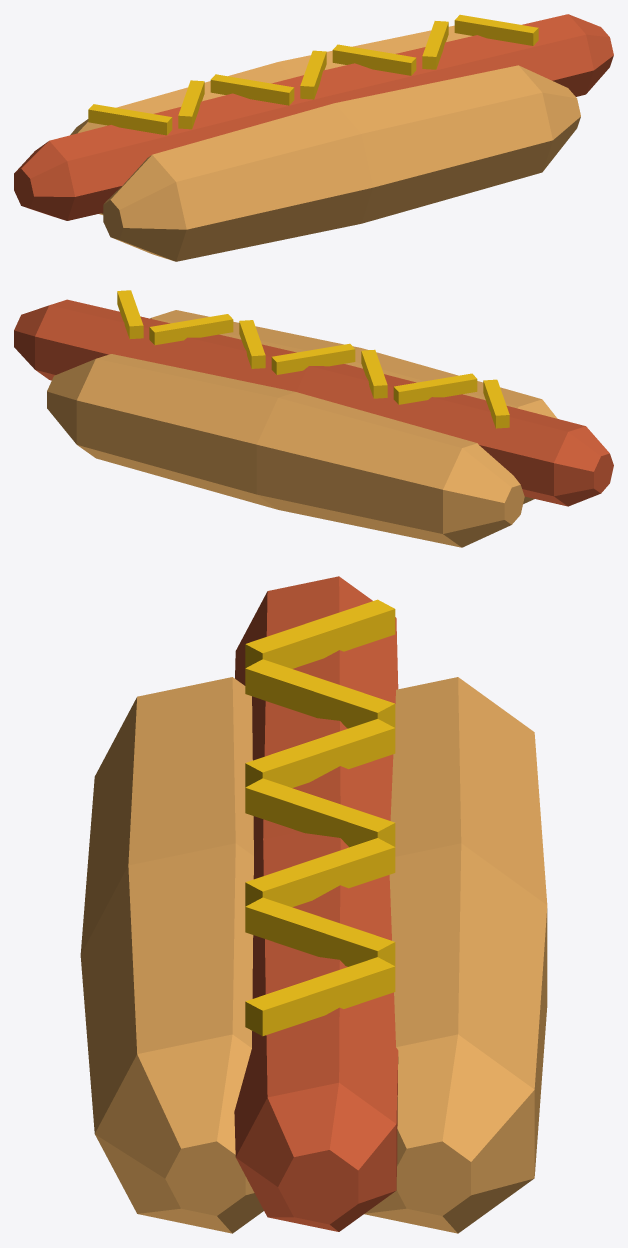
The model's file is hotdog.glb.
3 renders of one model, top to bottom at view 1: azimuth 30°, elevation 25°; view 2: azimuth 150°, elevation 25°; view 3: azimuth 270°, elevation 25°, orthographic. The views are drawn at different scales.
Parts seen in each view (by area): view 1: hotdog; view 2: hotdog; view 3: hotdog.
Part boxes in pixels (<box>): hotdog: <box>14,14,613,261</box>; hotdog: <box>14,290,613,547</box>; hotdog: <box>80,576,547,1233</box>.
Size of the model in its own units: 0.19 by 0.041 by 0.0662.
